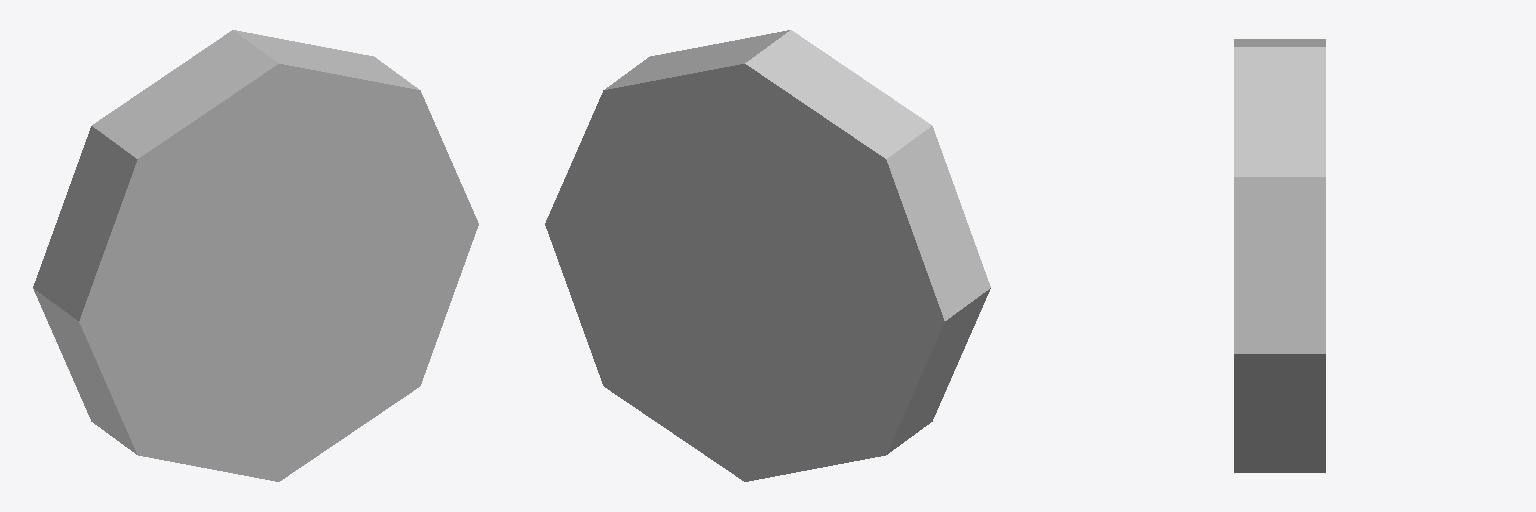
The model's file is coin.obj.
The picture shows the model from 3 angles: view 1: azimuth 30°, elevation 25°; view 2: azimuth 150°, elevation 25°; view 3: azimuth 270°, elevation 25°; orthographic projection.
Visible parts, largest first — view 1: Coin; view 2: Coin; view 3: Coin.
Part boxes in pixels (bbox=[...]): Coin: bbox=[33, 30, 478, 481]; Coin: bbox=[545, 30, 990, 481]; Coin: bbox=[1234, 39, 1325, 472].
Size of the model in its own units: 0.75 by 0.75 by 0.15.